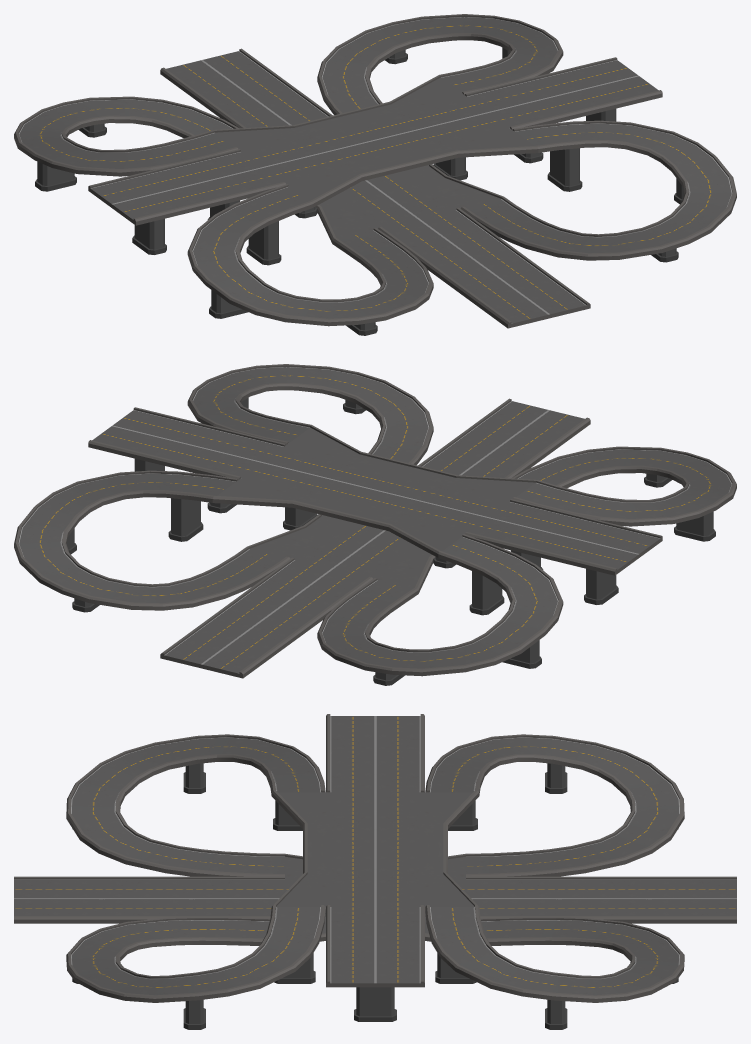
The model's file is SM_Floor_Road_29.fbx.
3 renders of one model, top to bottom at view 1: azimuth 30°, elevation 25°; view 2: azimuth 150°, elevation 25°; view 3: azimuth 270°, elevation 25°, orthographic. The views are drawn at different scales.
Parts seen in each view (by area): view 1: SM_Floor_Road_29; view 2: SM_Floor_Road_29; view 3: SM_Floor_Road_29.
Boxes of the visible parts, left/top/right/bottom form: SM_Floor_Road_29: left=14, top=14, right=736, bottom=335; SM_Floor_Road_29: left=14, top=364, right=736, bottom=685; SM_Floor_Road_29: left=14, top=714, right=736, bottom=1029.
Size of the model in its own units: 70 by 6.72 by 80.
